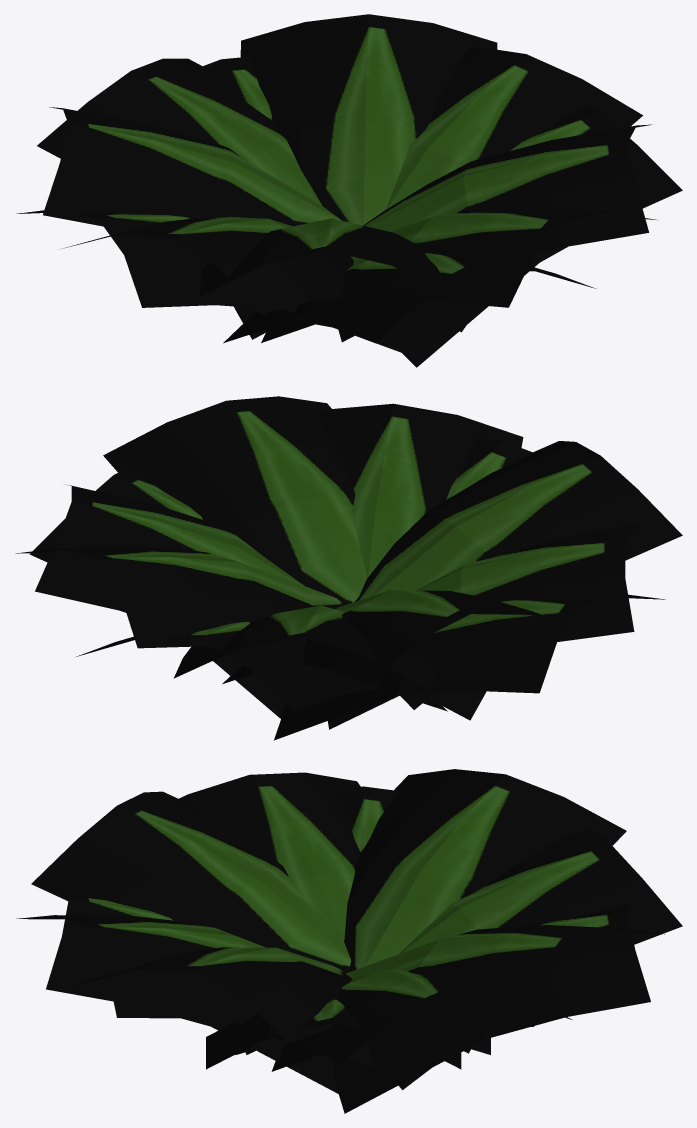
The model's file is Bush_1.fbx.
The picture shows the model from 3 angles, top to bottom: view 1: azimuth 30°, elevation 25°; view 2: azimuth 150°, elevation 25°; view 3: azimuth 270°, elevation 25°; orthographic projection.
Parts seen in each view (by area): view 1: Bush; view 2: Bush; view 3: Bush.
Boxes of the visible parts, box(x1,y1,x2,y2) form: Bush: box(16, 14, 682, 367); Bush: box(15, 396, 682, 740); Bush: box(16, 769, 682, 1113).
Size of the model in its own units: 1342 by 402 by 1342.
